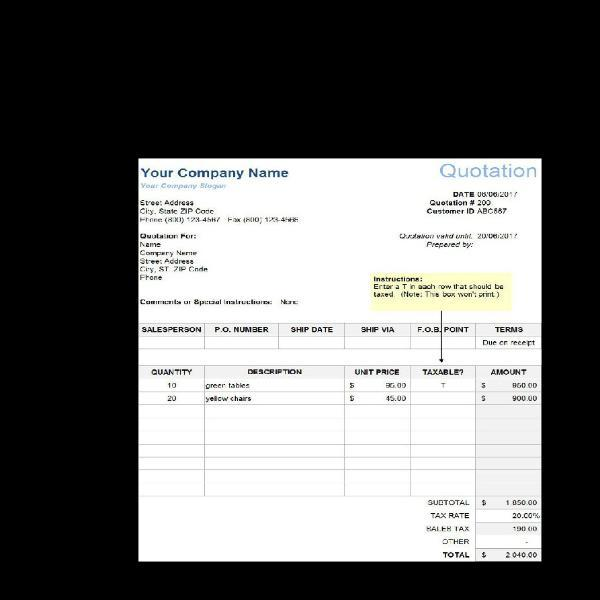test: (139, 159, 540, 561)
